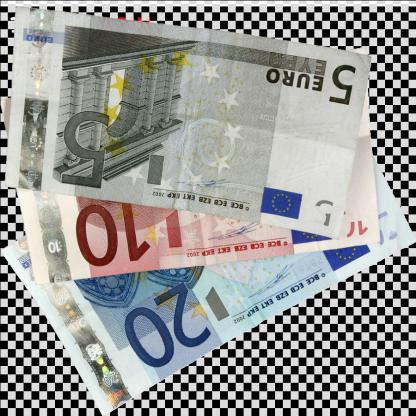euro_banknote: (25, 149, 393, 338), (13, 28, 361, 214), (22, 117, 385, 275)
